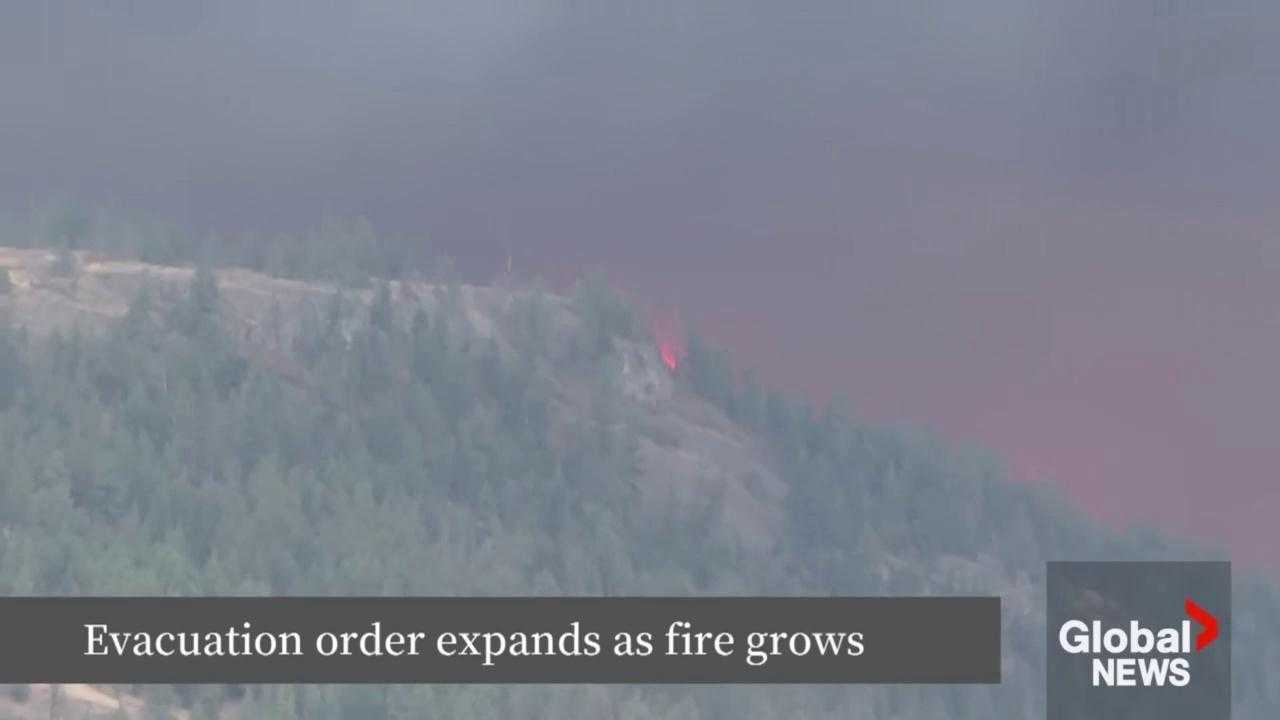fire: (660, 339, 677, 371)
smoke: (0, 0, 1280, 572)
